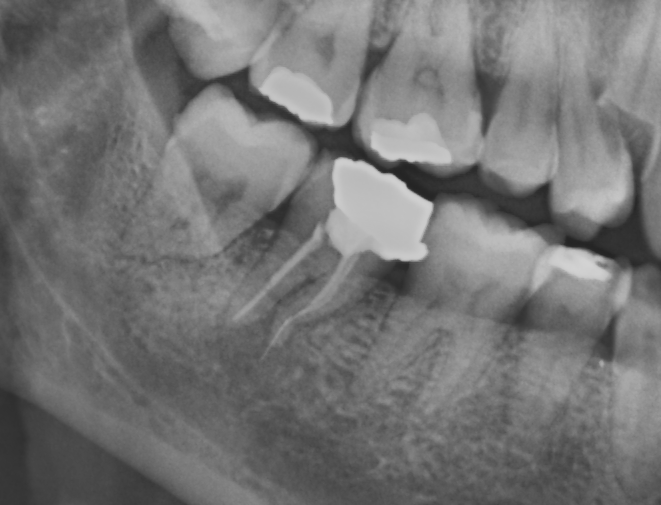fracture: (255, 315, 289, 365)
